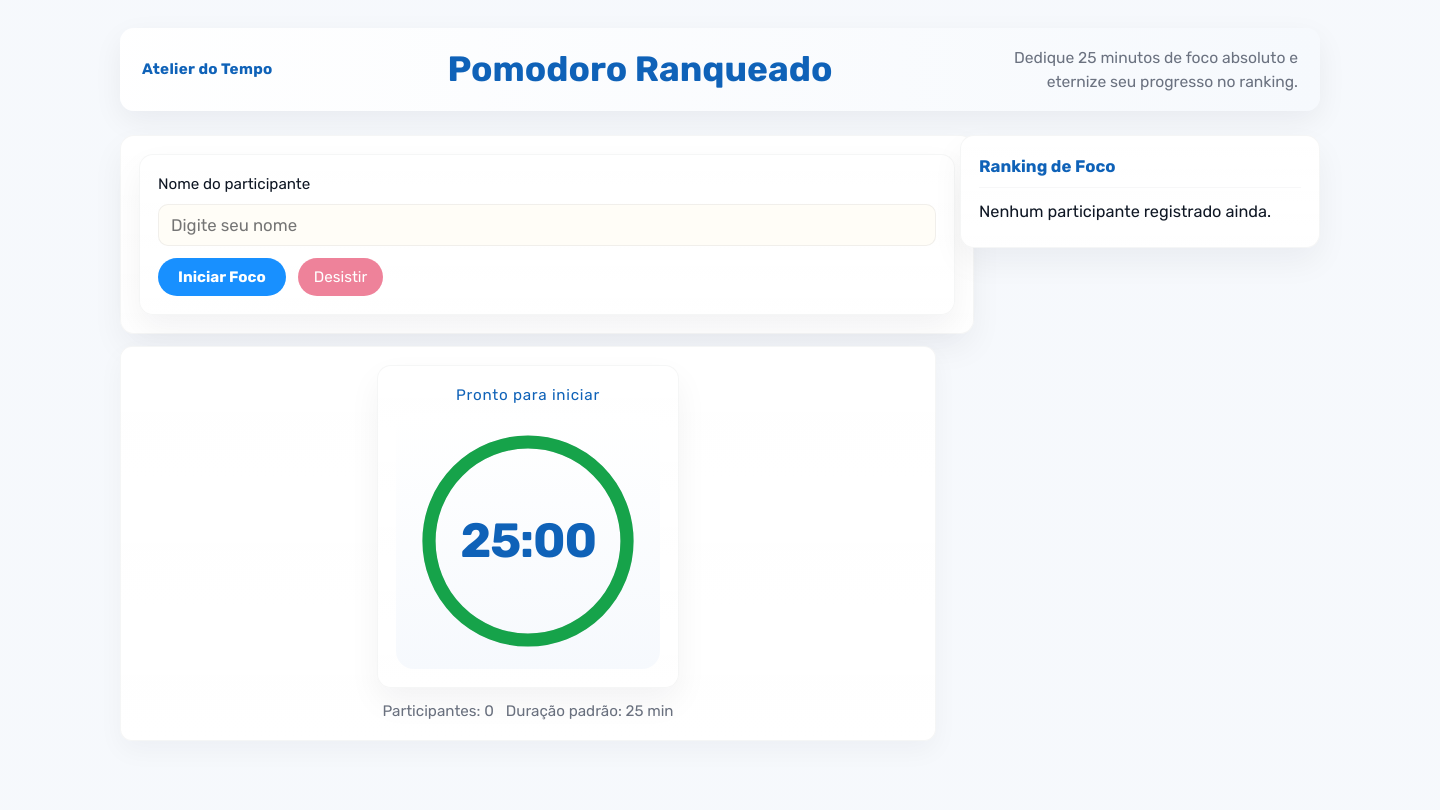
execução da sessão › inicia a contagem com nome válido
The image size is (1440, 810).
Type "Ana" into the field labelled "Nome do participante" at (547, 225), box [158,204,936,246]
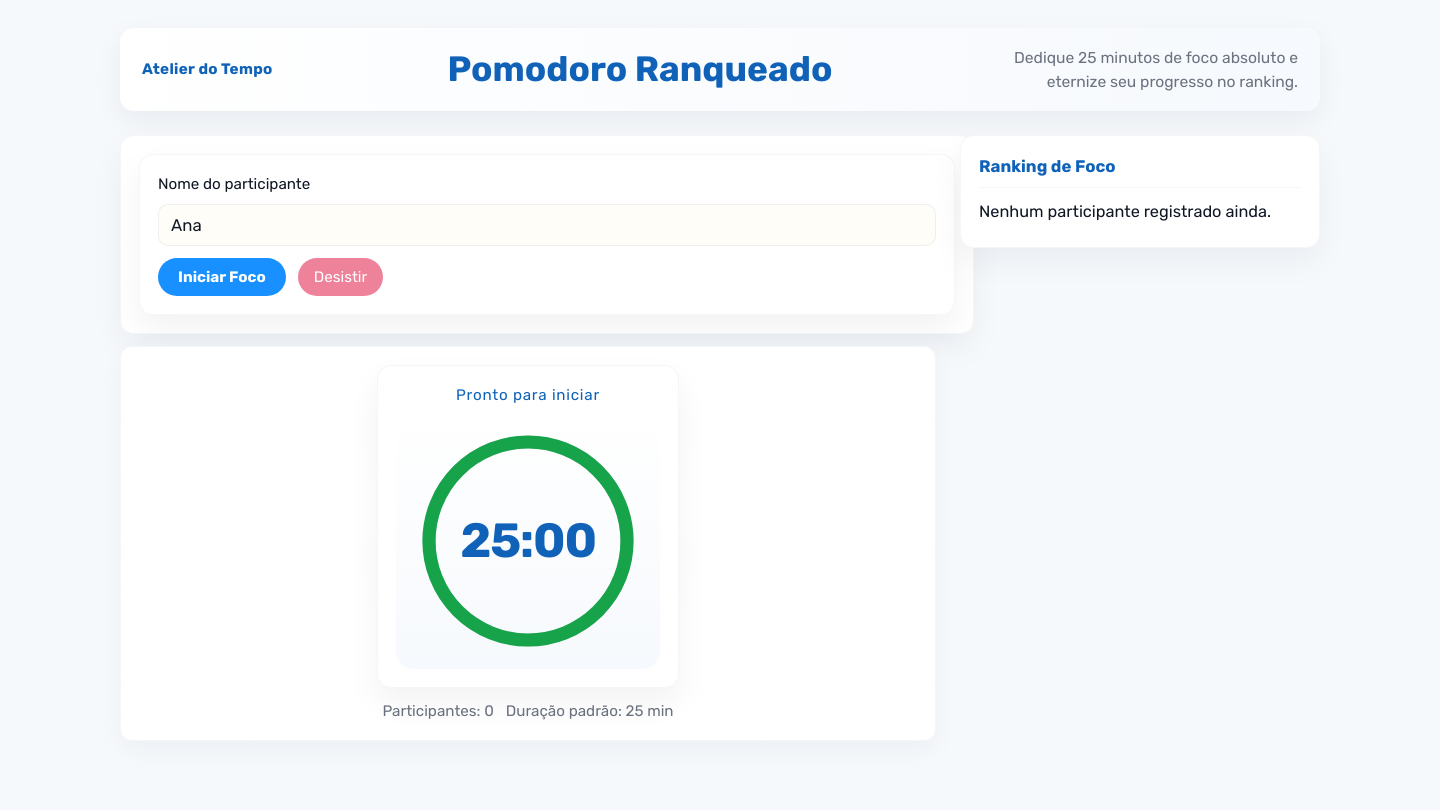
Click the button "Iniciar Foco" at (222, 277), box [158,258,286,296]
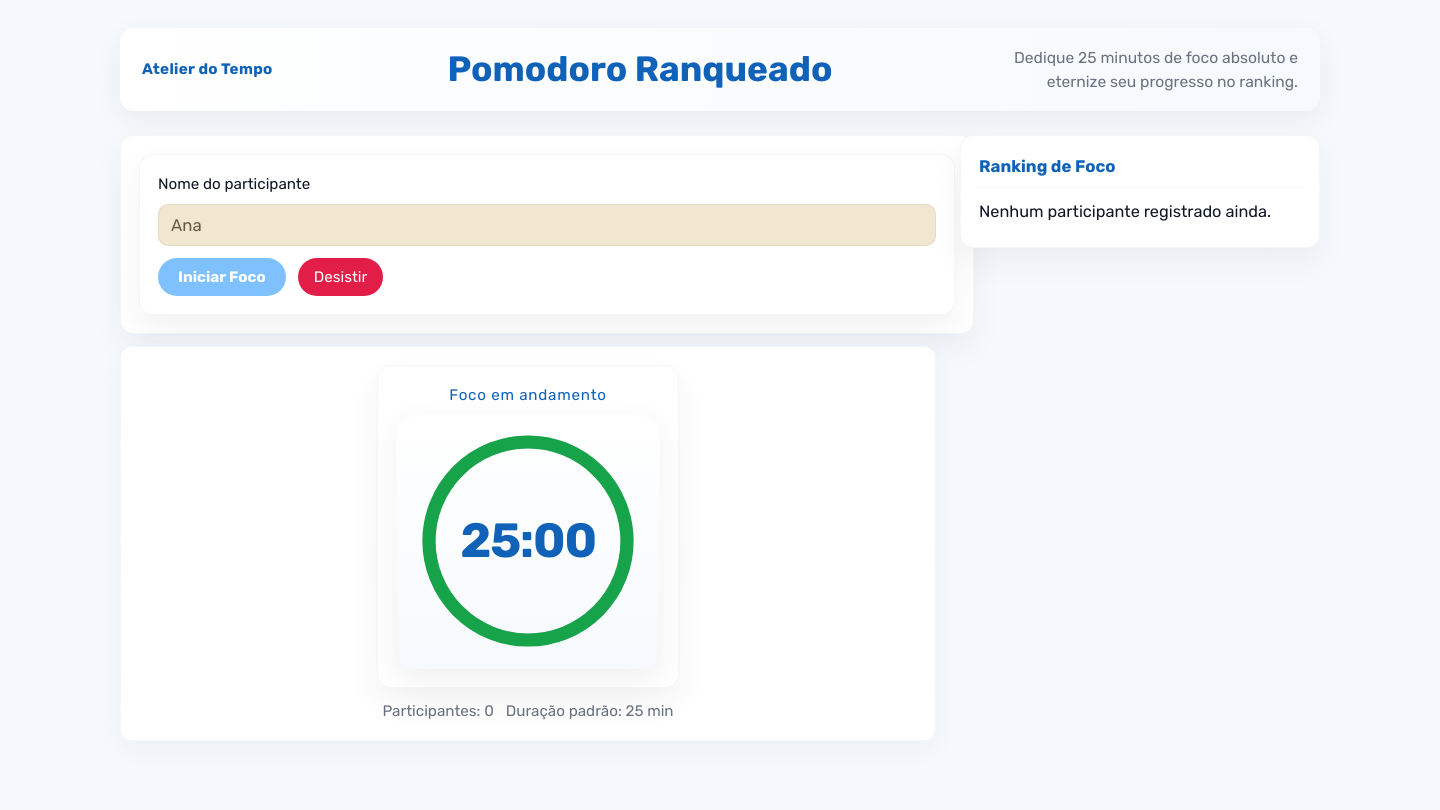
Expected: the text "Foco em andamento" is shown, [449,384,607,407]
Expected: the field labelled "Nome do participante" is disabled, [158,204,936,246]
Expected: the button "Iniciar Foco" is disabled, [158,258,286,296]
